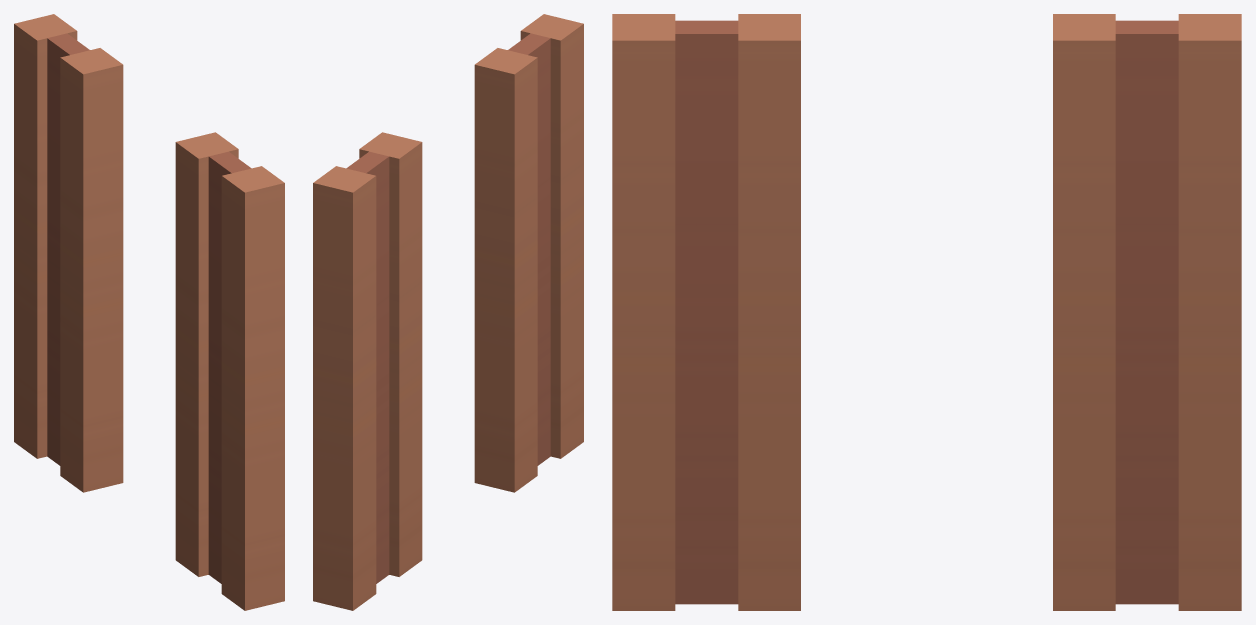
File: wall-wood-doorway-base.fbx
3 views of the same model, side by side, from view 1: azimuth 30°, elevation 25°; view 2: azimuth 150°, elevation 25°; view 3: azimuth 270°, elevation 25° (orthographic). The views are drawn at different scales.
Visible parts, largest first — view 1: wall-wood-doorway-base; view 2: wall-wood-doorway-base; view 3: wall-wood-doorway-base.
Boxes of the visible parts, x1,y1,x2,y2 form: wall-wood-doorway-base: (14,14,284,610); wall-wood-doorway-base: (313,14,583,610); wall-wood-doorway-base: (612,14,1241,610).
Size of the model in its own units: 10 by 100 by 100.
1 material, 1 textured.
